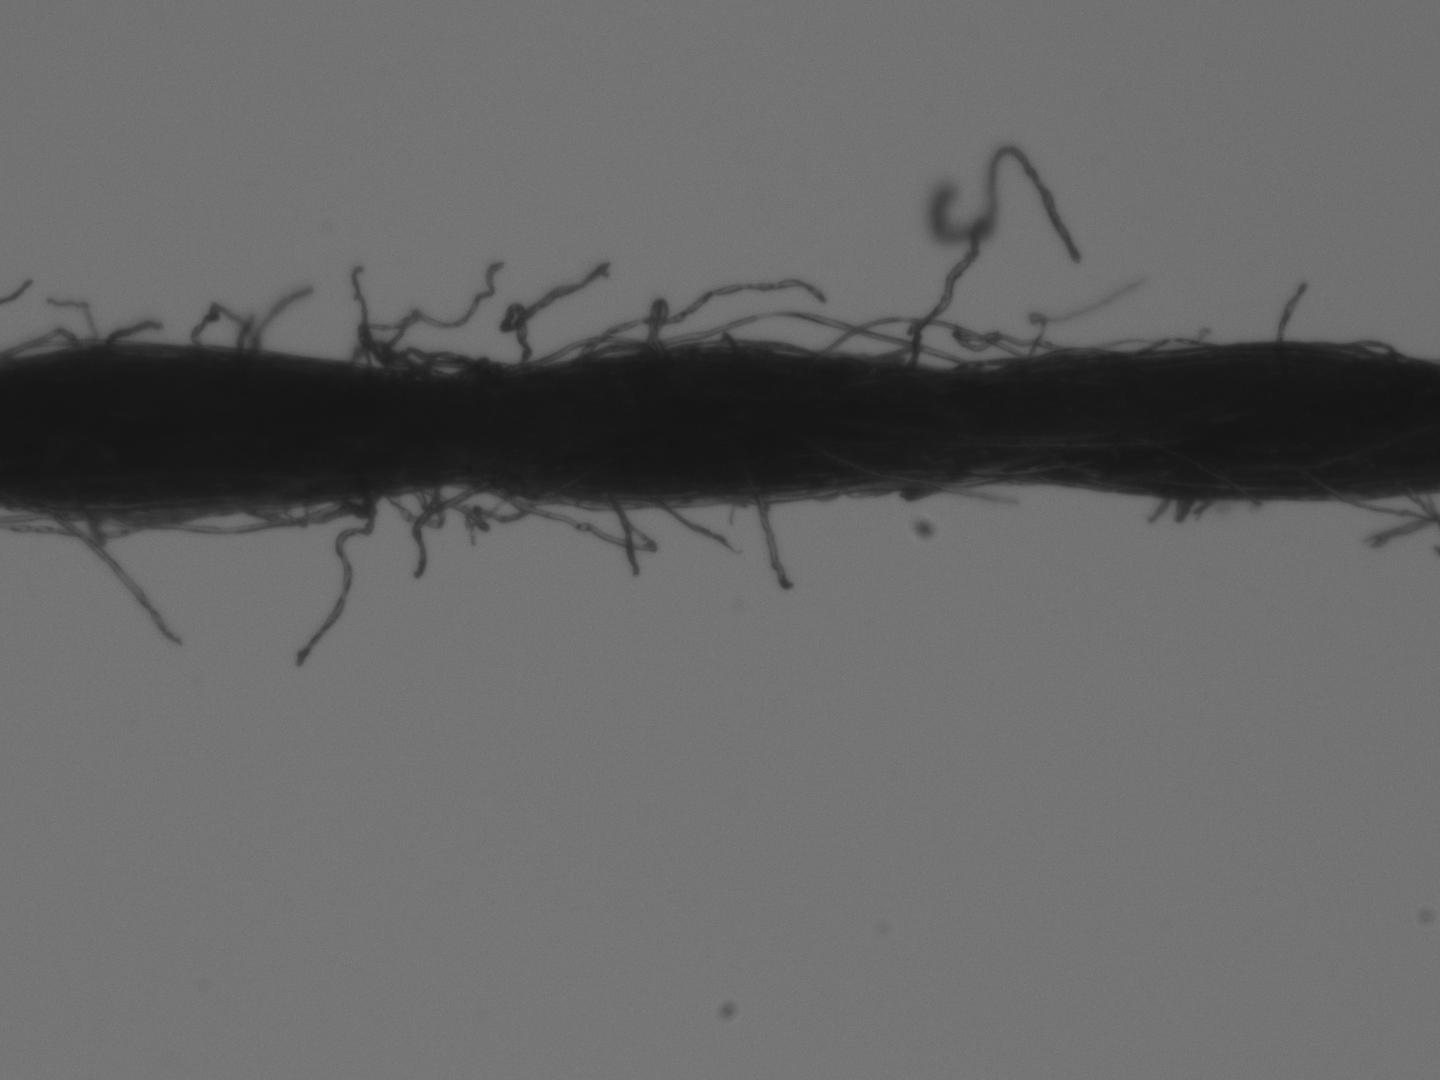loop_fiber: (650, 309, 968, 364), (812, 315, 1017, 368), (503, 492, 649, 552), (346, 321, 502, 374), (425, 478, 536, 532), (522, 337, 646, 368), (190, 304, 261, 353), (386, 480, 449, 529), (240, 496, 345, 525), (3, 327, 83, 361), (875, 346, 969, 371), (1136, 334, 1213, 357), (1338, 336, 1399, 358)
protruding_fiber: (51, 514, 179, 651), (296, 495, 378, 672), (249, 282, 312, 352), (407, 478, 444, 580), (752, 500, 790, 592), (657, 501, 730, 546), (1278, 282, 1311, 344), (104, 319, 159, 353)
